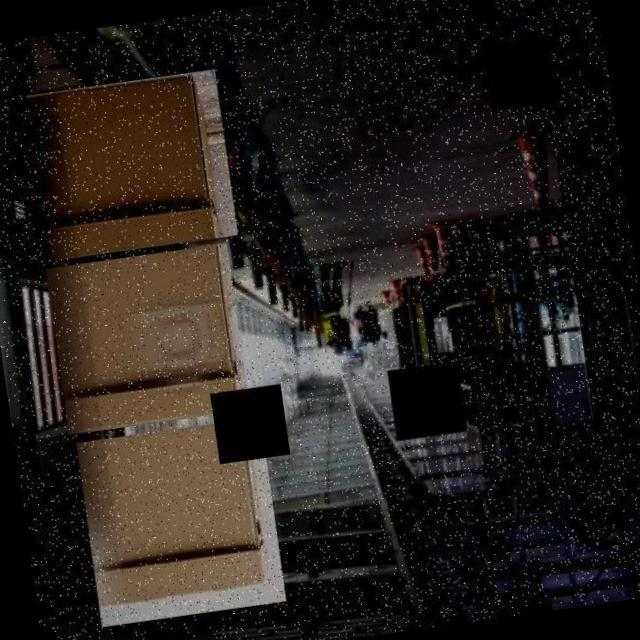box: (74, 412, 290, 630), (23, 64, 242, 264), (43, 239, 254, 438)
